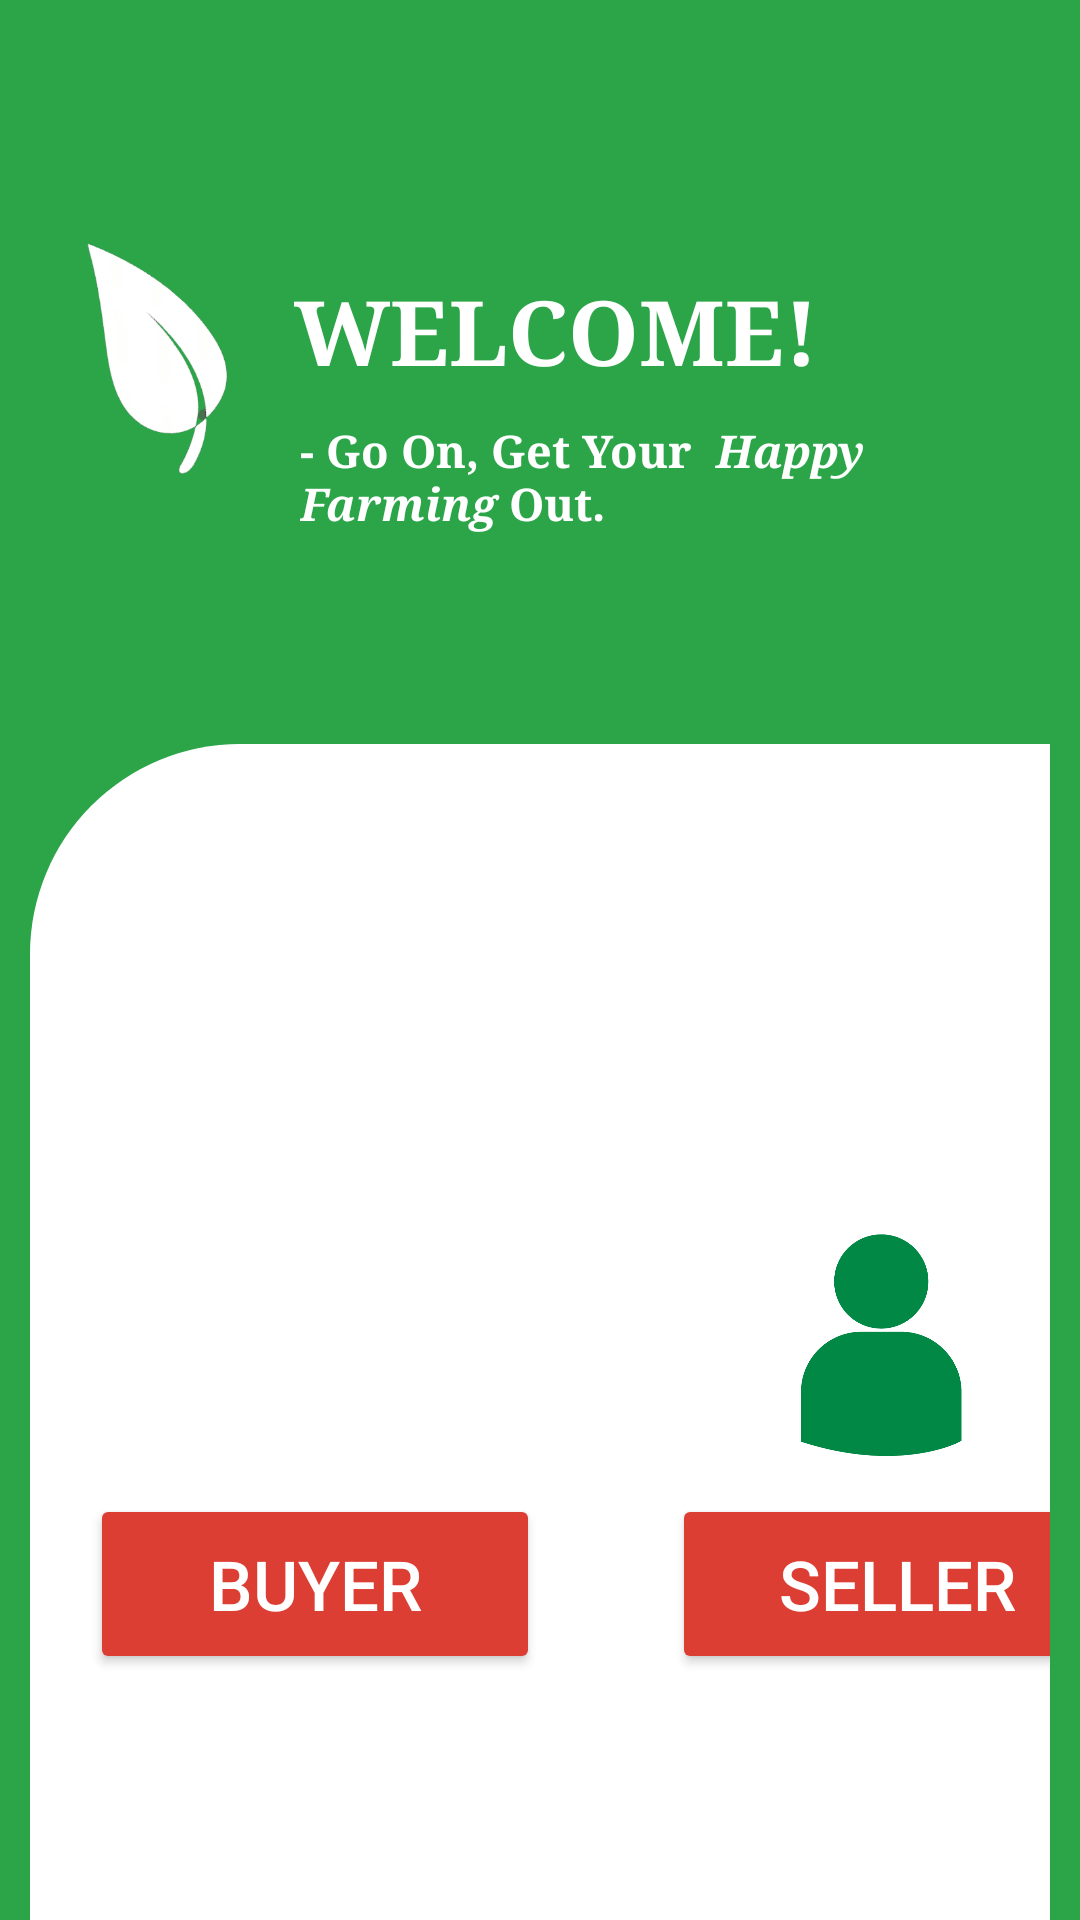

Named icons in this screenshot (1080px x 1920px) and their bounding boxes, rect(x1, y1, x2, y2):
newleaf: rect(87, 244, 227, 474)
